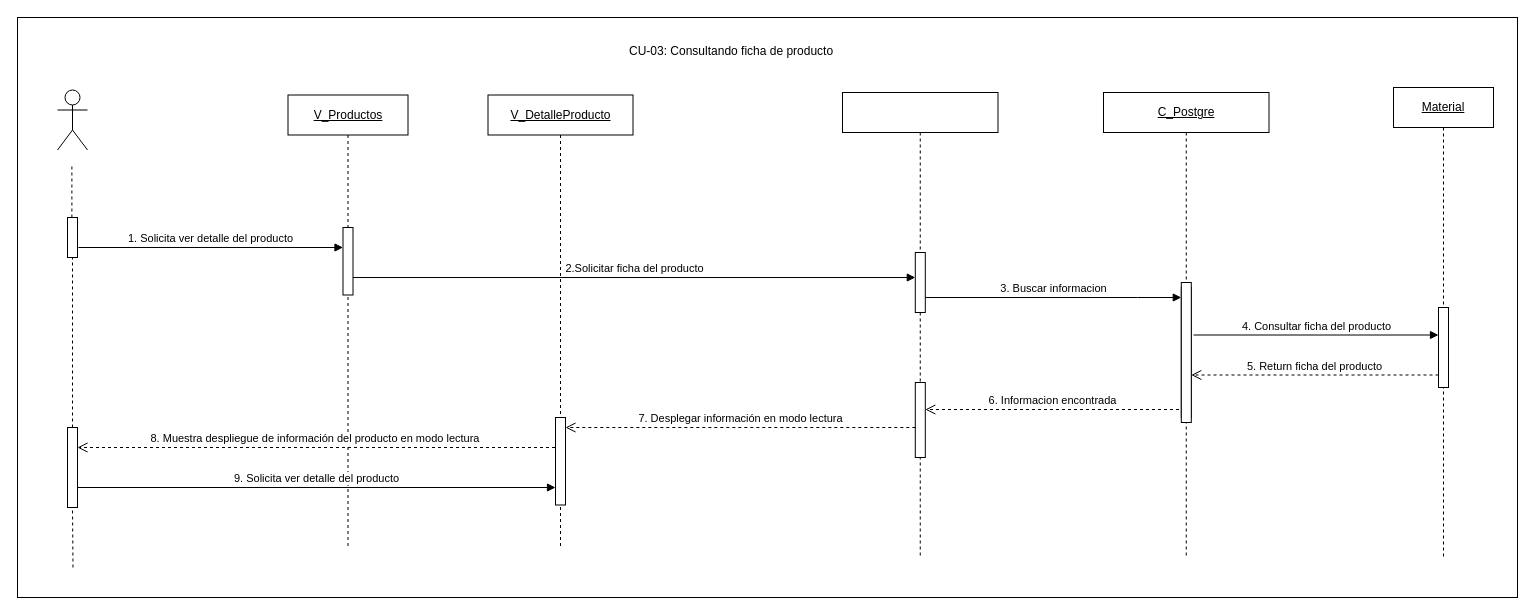
The diagram is 1535 pixels wide and 615 high, and some of its shapes have lost their labels. Each missing label, with the centre of its shape:
C_ materiales: the point at 920,325
Gerencia: the point at 72,119
